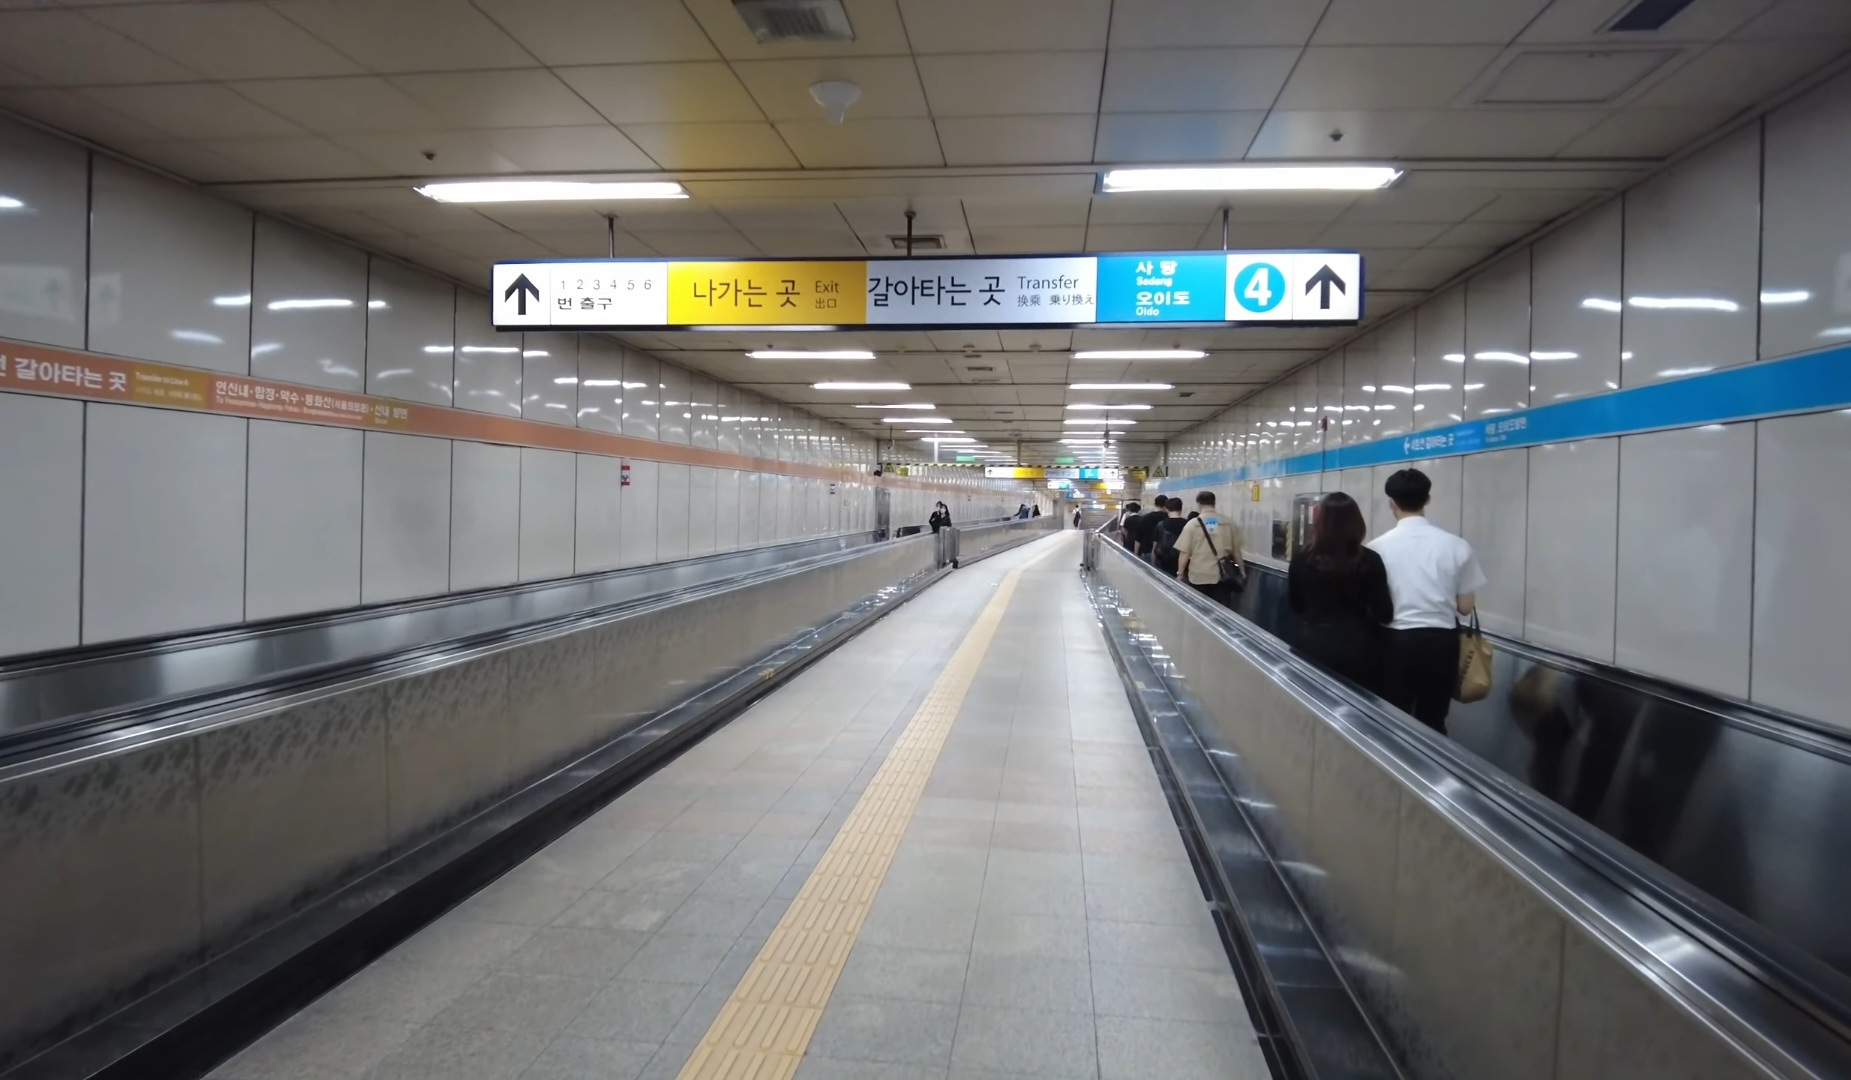signBoard: (456, 199, 1396, 357)
